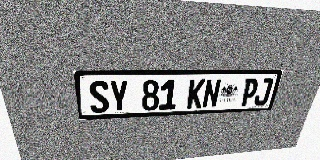1: (159, 79, 178, 110)
8: (142, 79, 160, 111)
J: (253, 78, 274, 106)
K: (186, 79, 206, 109)
N: (202, 79, 222, 108)
P: (239, 78, 260, 107)
S: (88, 80, 110, 114)
Y: (109, 80, 128, 113)
